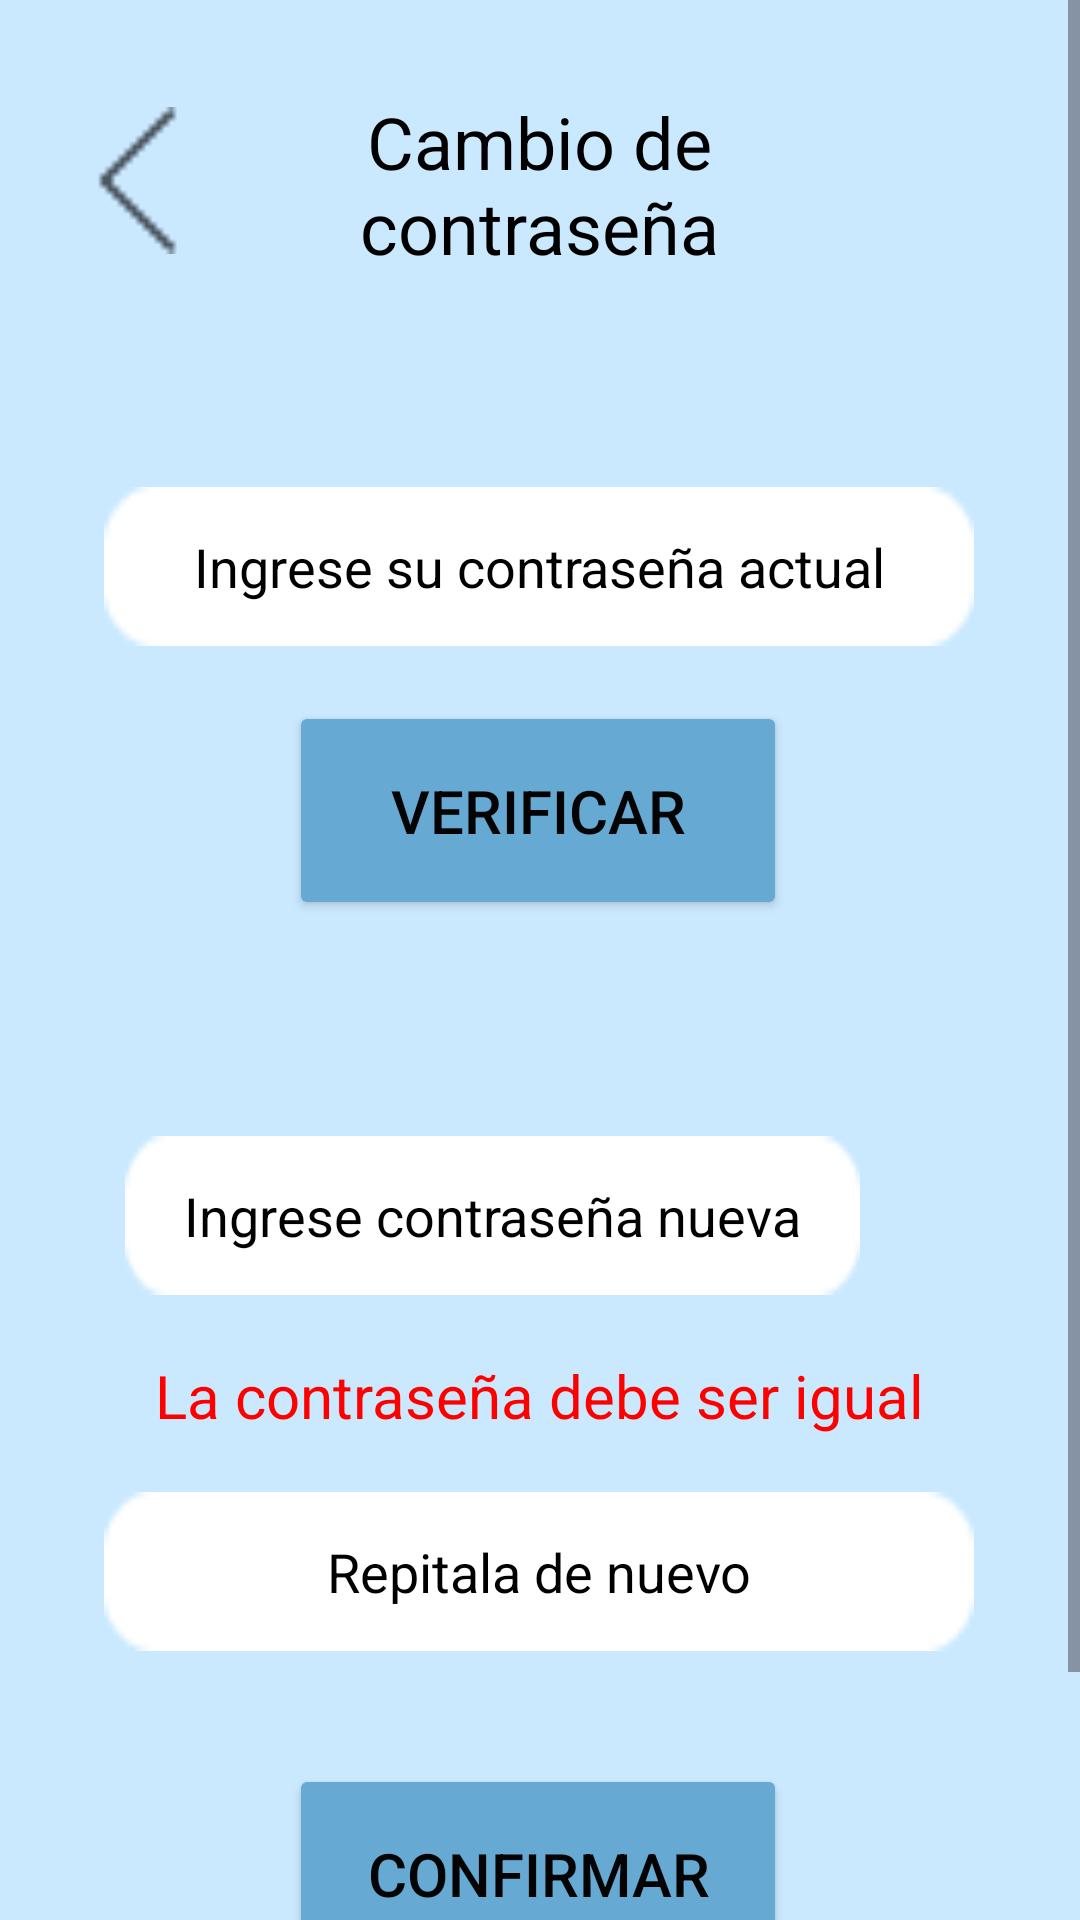

Where to tap for icons on this 1080*1920 app screen, as (x,y):
flecha: (137,180)
